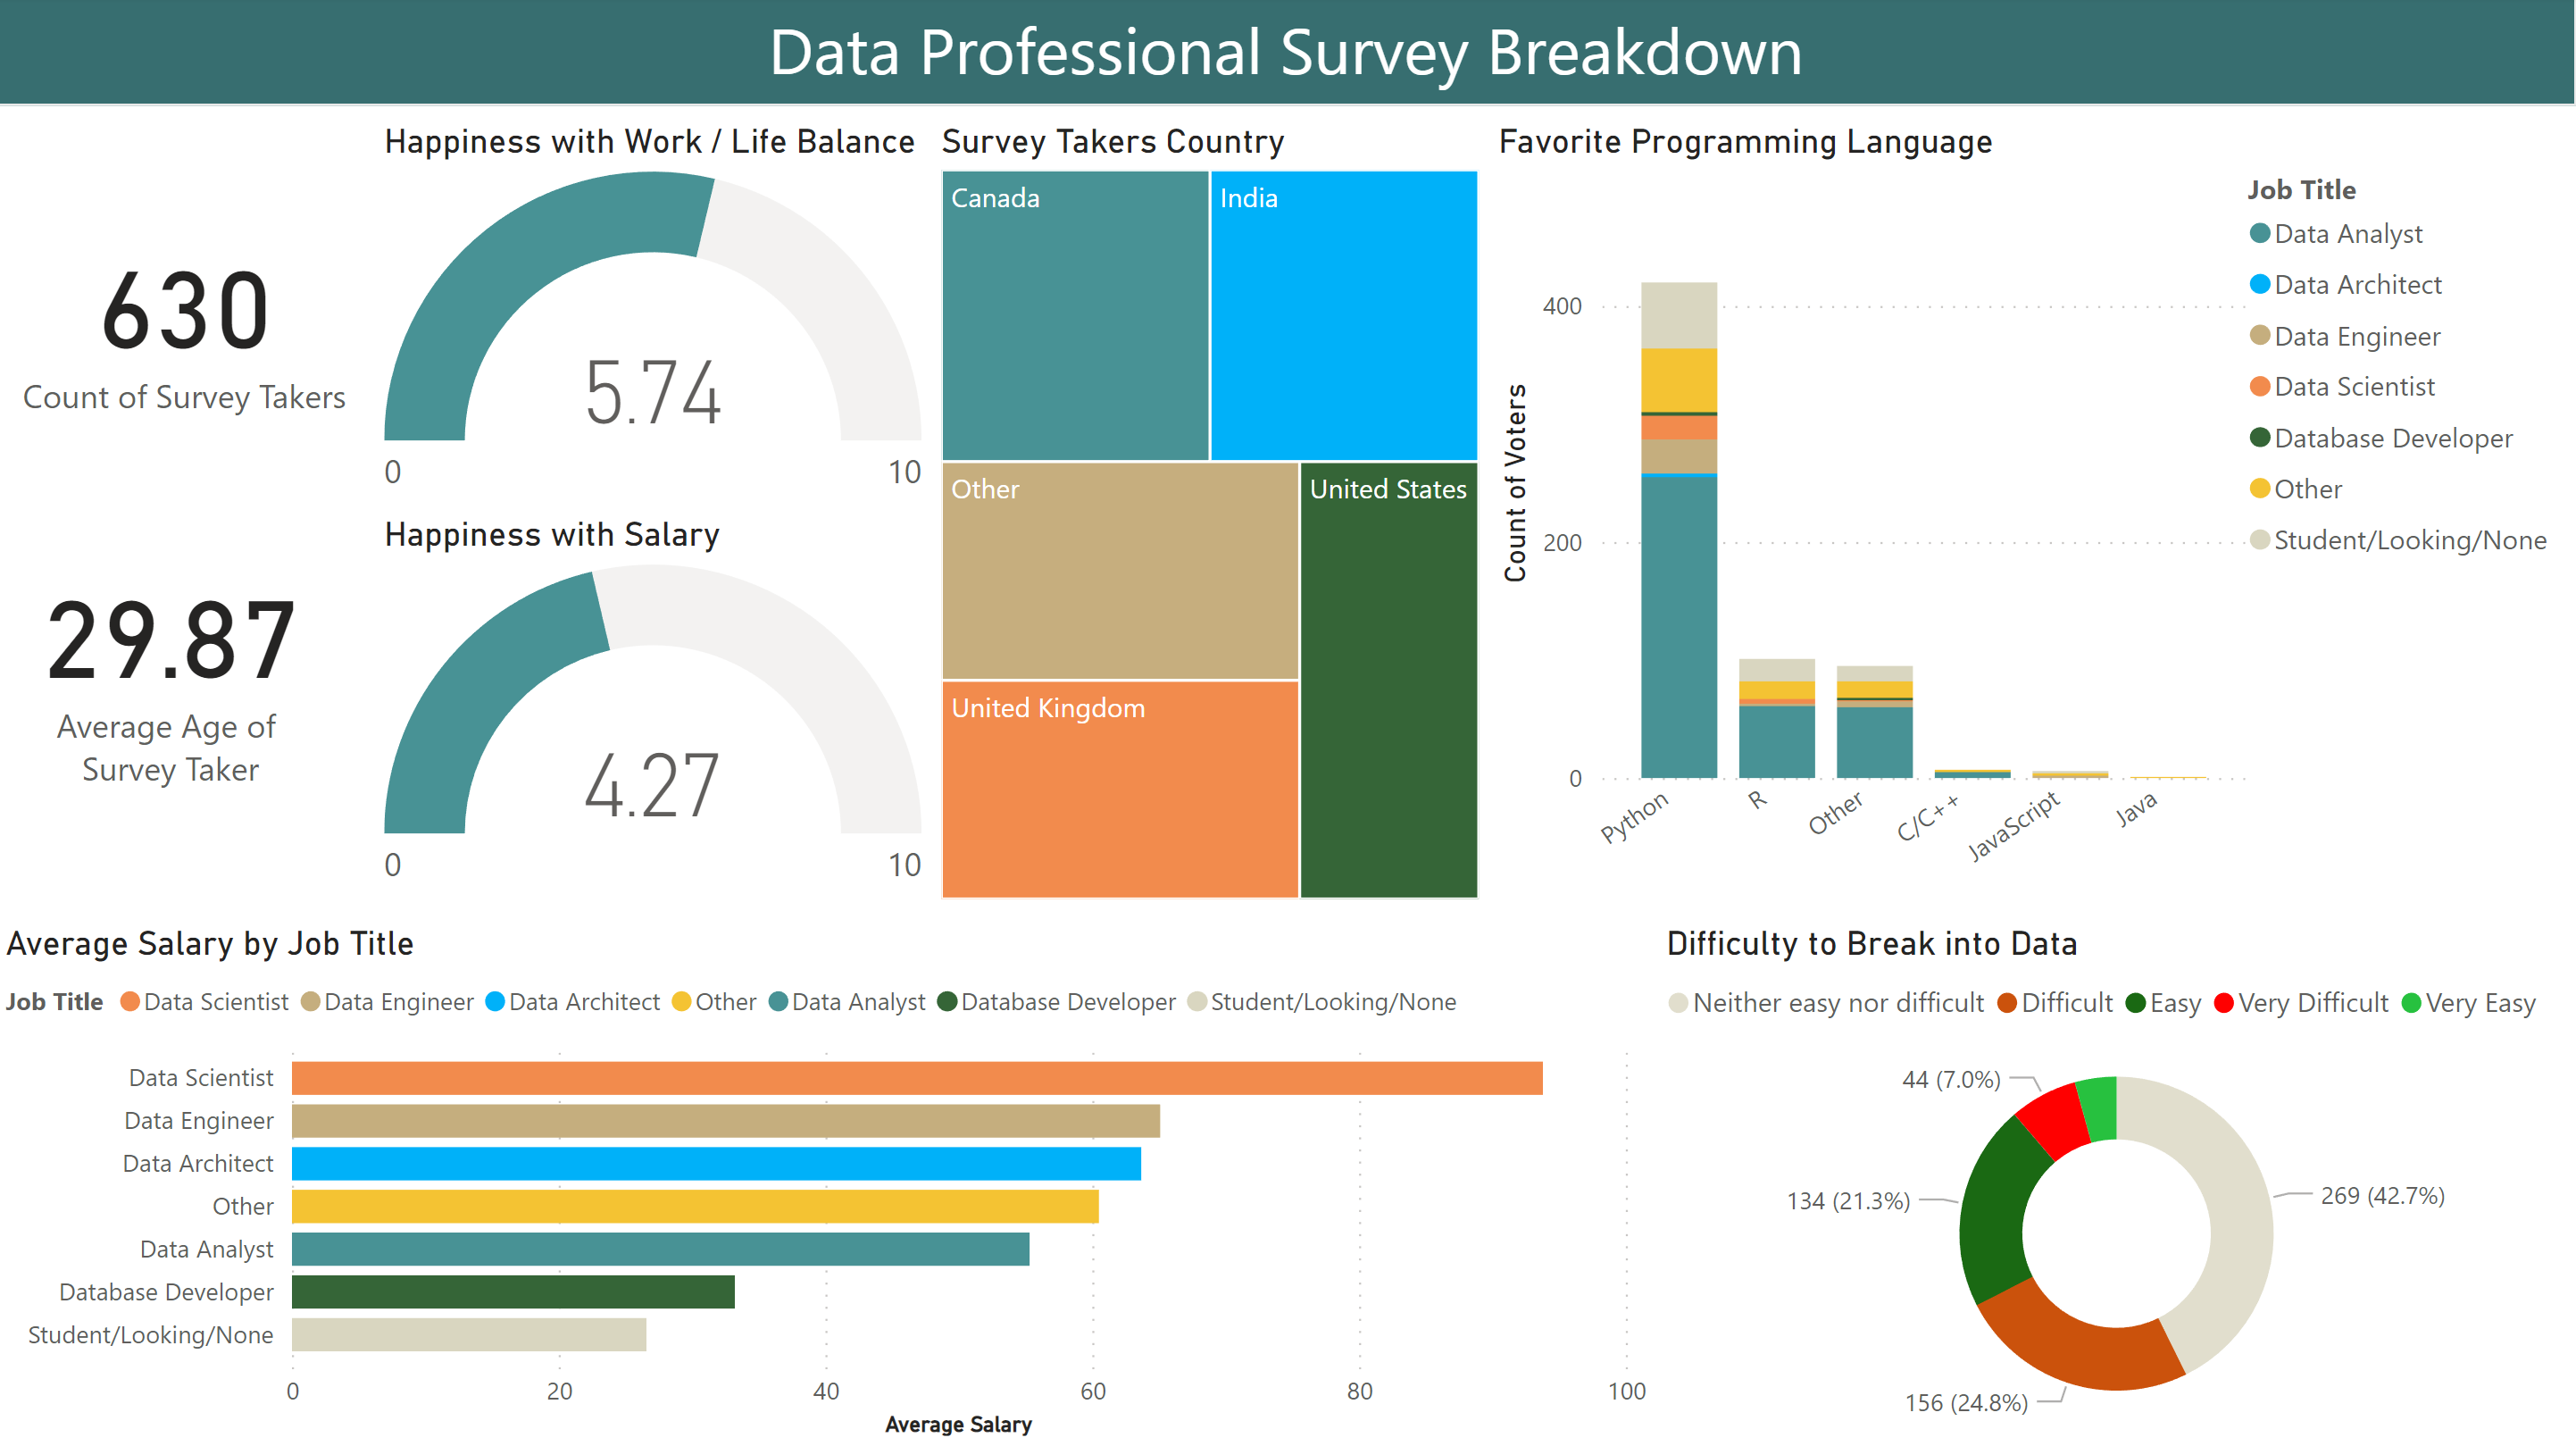

What the dashboard file says about the page in this screenshot:
{"tool":"powerbi","page":{"name":"Main Dashboard","canvas":[1280,720],"ordinal":0},"visuals":[{"type":"textbox","box":[0,0,1280,54.8],"z":0},{"type":"card","fields":{"Values":["Count(Data Professional Survey.Unique ID)"]},"box":[0,94.8,187.7,131.1],"z":1000},{"type":"card","fields":{"Values":["Avg(Data Professional Survey.Q10 - Current Age)"]},"box":[0,225.8,173.6,195.7],"z":2000},{"type":"barChart","title":"Average Salary by Job Title","fields":{"Category":["Data Professional Survey.Q1 - Which Title Best Fits your Current Role?.1"],"Y":["Avg(Data Professional Survey.Average Salary)"],"Series":["Data Professional Survey.Q1 - Which Title Best Fits your Current Role?.1"]},"box":[0,460.8,823.5,259],"z":3000},{"type":"columnChart","title":"Favorite Programming Language","fields":{"Category":["Data Professional Survey.Q5 - Favorite Programming Language.1"],"Y":["CountNonNull(Data Professional Survey.Unique ID)"],"Series":["Data Professional Survey.Q1 - Which Title Best Fits your Current Role?.1"]},"box":[740.4,62.6,539.6,390.7],"z":4000},{"type":"treemap","title":"Survey Takers Country","fields":{"Group":["Data Professional Survey.Q11 - Which Country do you live in?.1"],"Values":["Count(Data Professional Survey.Q11 - Which Country do you live in?.1)"]},"box":[464.1,62.6,276.3,390.7],"z":5000},{"type":"gauge","title":"Happiness with Work / Life Balance","fields":{"Y":["Avg(Data Professional Survey.Q6 - How Happy are you in your Current Position with the following? (Work/Life Balance))"],"MinValue":["Min(Data Professional Survey.Q6 - How Happy are you in your Current Position with the following? (Work/Life Balance))1"],"MaxValue":["Max(Data Professional Survey.Q6 - How Happy are you in your Current Position with the following? (Work/Life Balance))2"]},"box":[187.8,62.6,276.3,195.3],"z":6000},{"type":"gauge","title":"Happiness with Salary","fields":{"Y":["Avg(Data Professional Survey.Q6 - How Happy are you in your Current Position with the following? (Salary))"],"MinValue":["Min(Data Professional Survey.Q6 - How Happy are you in your Current Position with the following? (Salary))"],"MaxValue":["Max(Data Professional Survey.Q6 - How Happy are you in your Current Position with the following? (Salary))"]},"box":[187.8,257.9,276.3,195.3],"z":7000},{"type":"donutChart","title":"Difficulty to Break into Data","fields":{"Category":["Data Professional Survey.Q7 - How difficult was it for you to break into Data?"],"Y":["CountNonNull(Data Professional Survey.Q7 - How difficult was it for you to break into Data?)"]},"box":[823.5,460.8,456.5,259],"z":8000}]}

Visuals, with their boxes in screenshot pixels (x1, y1, x2, y2), scaled from the page's 1280x720 canvas onto the 2576x1446 screenshot:
textbox: <box>0,0,2575,110</box>
card - Count(Data Professional Survey.Unique ID): <box>0,190,378,454</box>
card - Avg(Data Professional Survey.Q10 - Current Age): <box>0,454,349,847</box>
"Average Salary by Job Title" barChart: <box>0,925,1657,1445</box>
"Favorite Programming Language" columnChart: <box>1490,126,2575,910</box>
"Survey Takers Country" treemap: <box>934,126,1490,910</box>
"Happiness with Work / Life Balance" gauge: <box>378,126,934,518</box>
"Happiness with Salary" gauge: <box>378,518,934,910</box>
"Difficulty to Break into Data" donutChart: <box>1657,925,2575,1445</box>
